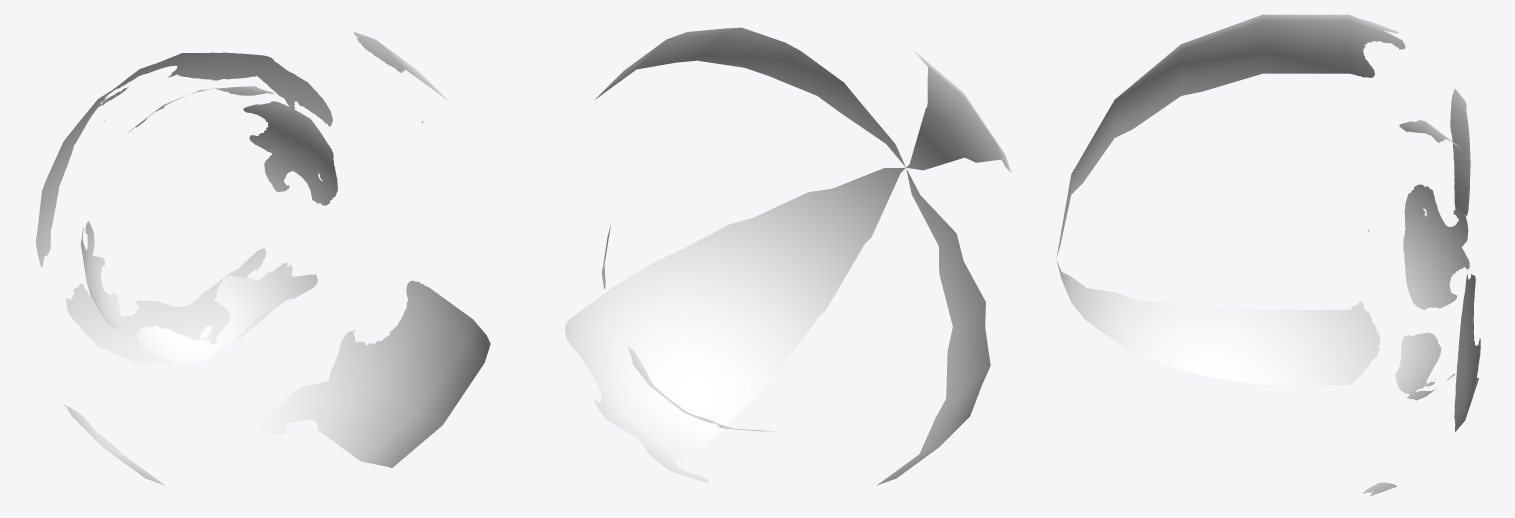
File: model_visionfog.glb
The picture shows the model from 3 angles, left to right: view 1: azimuth 30°, elevation 25°; view 2: azimuth 150°, elevation 25°; view 3: azimuth 270°, elevation 25°; orthographic projection.
Visible parts, largest first — view 1: parts.model_visionfog-MeshNodes["Sphere01"], parts.model_visionfog-MeshNodes["mesh_middle"], parts.model_visionfog-MeshNodes["mesh_front"]; view 2: parts.model_visionfog-MeshNodes["Sphere01"], parts.model_visionfog-MeshNodes["mesh_front"]; view 3: parts.model_visionfog-MeshNodes["Sphere01"], parts.model_visionfog-MeshNodes["mesh_front"], parts.model_visionfog-MeshNodes["mesh_middle"].
Part boxes in pixels (x1=…): parts.model_visionfog-MeshNodes["Sphere01"]: x1=64, y1=32, x2=490, y2=485; parts.model_visionfog-MeshNodes["mesh_middle"]: x1=36, y1=52, x2=332, y2=364; parts.model_visionfog-MeshNodes["mesh_front"]: x1=80, y1=86, x2=337, y2=365; parts.model_visionfog-MeshNodes["Sphere01"]: x1=565, y1=27, x2=1011, y2=485; parts.model_visionfog-MeshNodes["mesh_front"]: x1=601, y1=225, x2=773, y2=431; parts.model_visionfog-MeshNodes["Sphere01"]: x1=1056, y1=14, x2=1405, y2=496; parts.model_visionfog-MeshNodes["mesh_front"]: x1=1395, y1=119, x2=1469, y2=400; parts.model_visionfog-MeshNodes["mesh_middle"]: x1=1450, y1=89, x2=1480, y2=431.
Bounding box in the file's own units: 3.03 × 3.07 × 2.78.
Materials: 1 (1 with a texture image).
